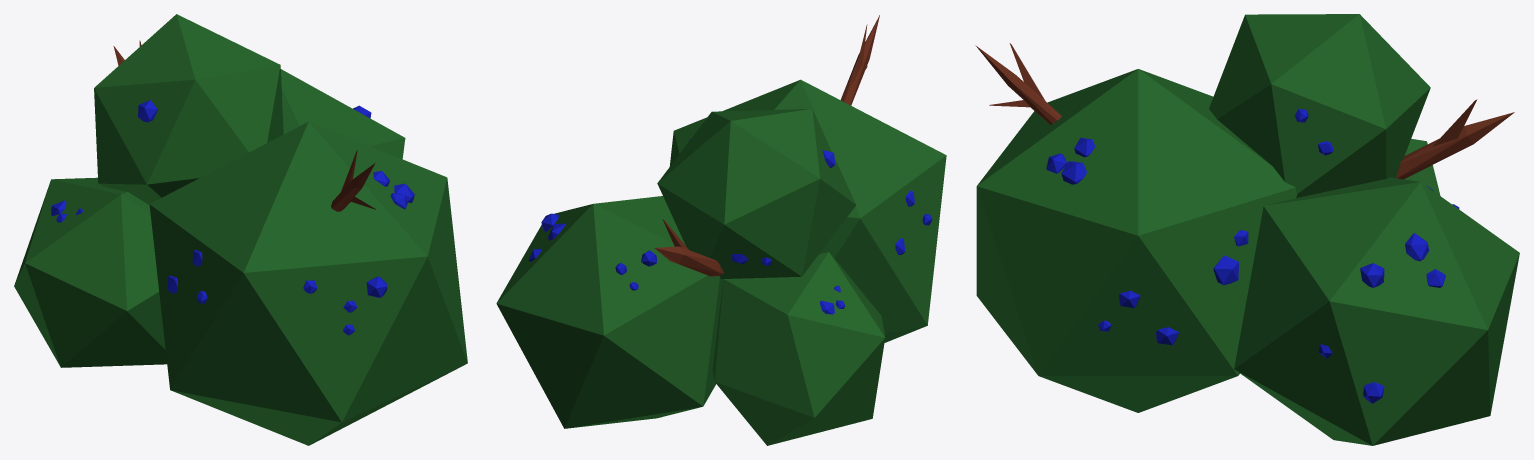
The model's file is Bush_00.fbx.
3 renders of one model, left to right at view 1: azimuth 30°, elevation 25°; view 2: azimuth 150°, elevation 25°; view 3: azimuth 270°, elevation 25°, orthographic. The views are drawn at different scales.
Parts seen in each view (by area): view 1: Bush_00; view 2: Bush_00; view 3: Bush_00.
Boxes of the visible parts, x1,y1,x2,y2 form: Bush_00: [14, 14, 467, 445]; Bush_00: [496, 15, 946, 445]; Bush_00: [975, 14, 1519, 445].
Size of the model in its own units: 78.69 by 71.74 by 92.09.
